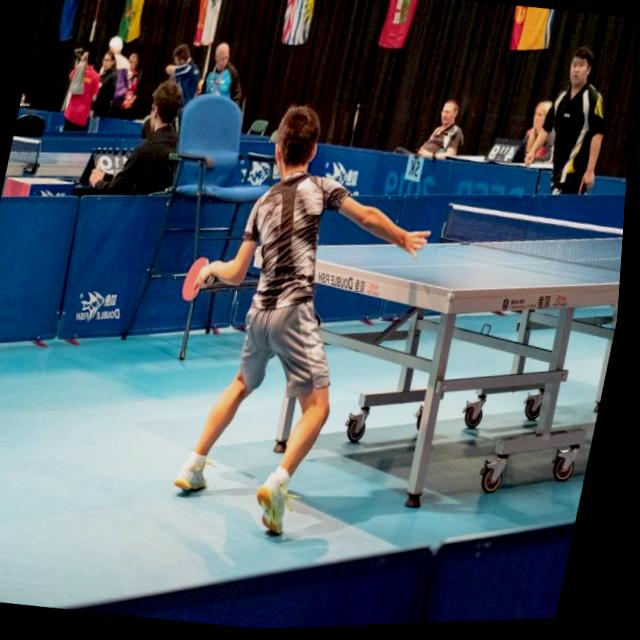TT Net: (439, 201, 623, 277), (9, 135, 42, 169)
TT Racket: (175, 252, 214, 307), (575, 173, 590, 200)
TT Table: (256, 237, 623, 290)
